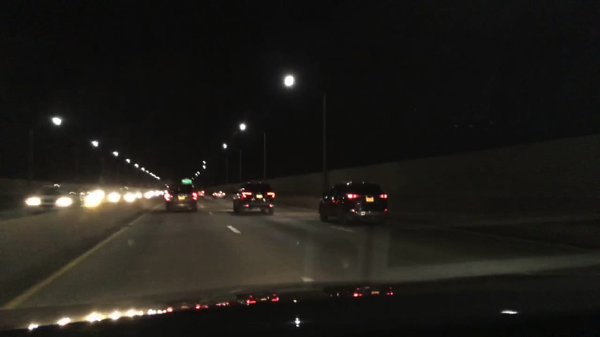car: (317, 179, 391, 227), (25, 183, 85, 211), (233, 181, 277, 216), (163, 185, 199, 214), (82, 186, 107, 207), (107, 190, 135, 204), (135, 191, 152, 199), (212, 191, 228, 199), (154, 190, 163, 197), (197, 191, 204, 196)
traffic sign: (182, 177, 193, 184)
